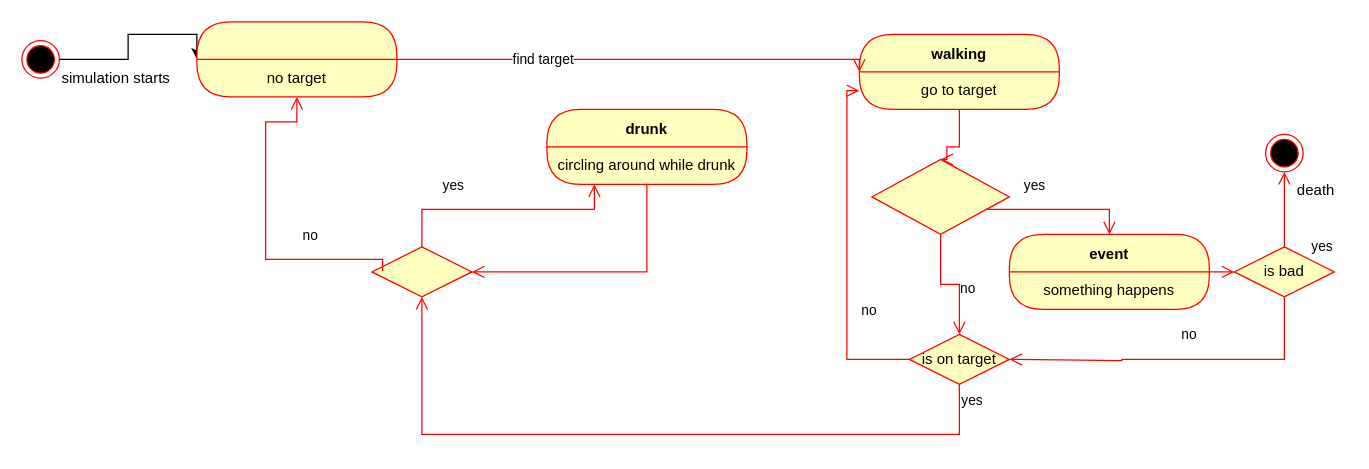
The diagram is 1369 pixels wide and 469 high, and some of its shapes have lost their labels. Each missing label, with the box of its shape:
idle: (196, 21, 397, 97)
is drunk: (371, 246, 472, 297)
meets another entity: (871, 158, 1009, 234)
